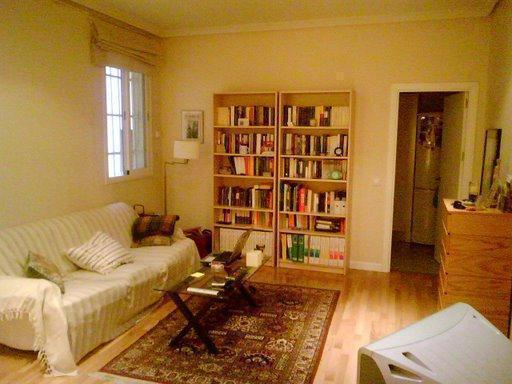Puerta: (439, 90, 474, 270)
Ventana: (99, 48, 158, 178)
